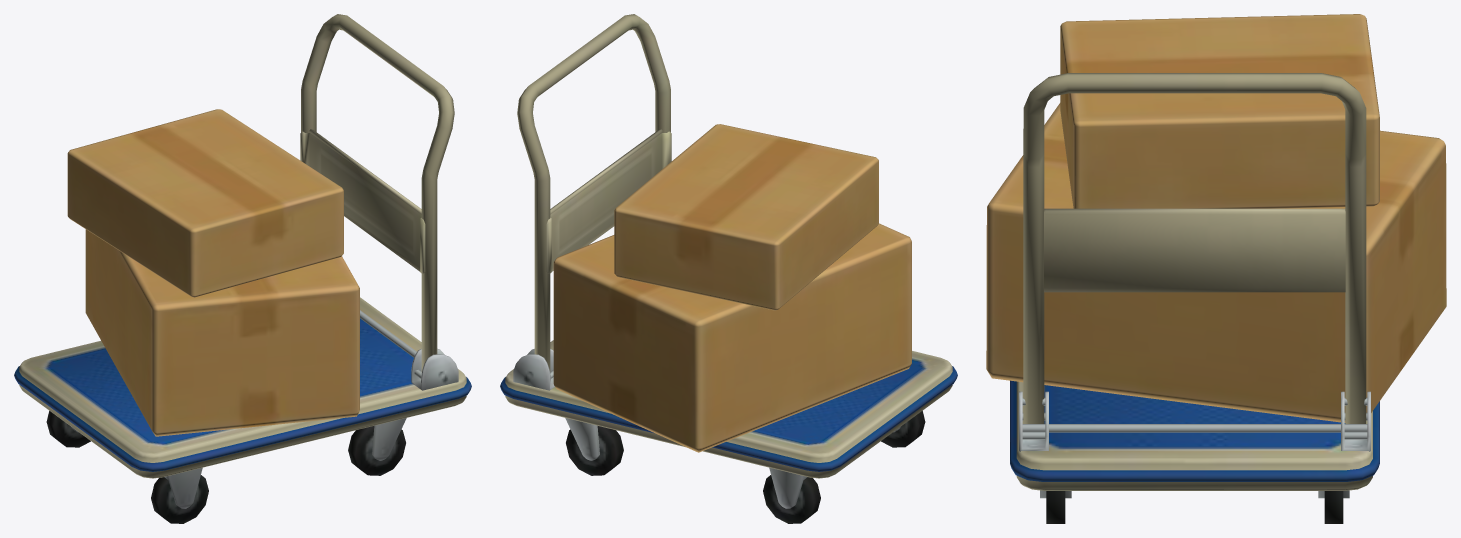
3 views of the same model, side by side, from view 1: azimuth 30°, elevation 25°; view 2: azimuth 150°, elevation 25°; view 3: azimuth 270°, elevation 25° (orthographic). The views are drawn at different scales.
Size of the model in its own units: 9.57 by 9.94 by 8.46.
Materials: 2 (2 with a texture image).
